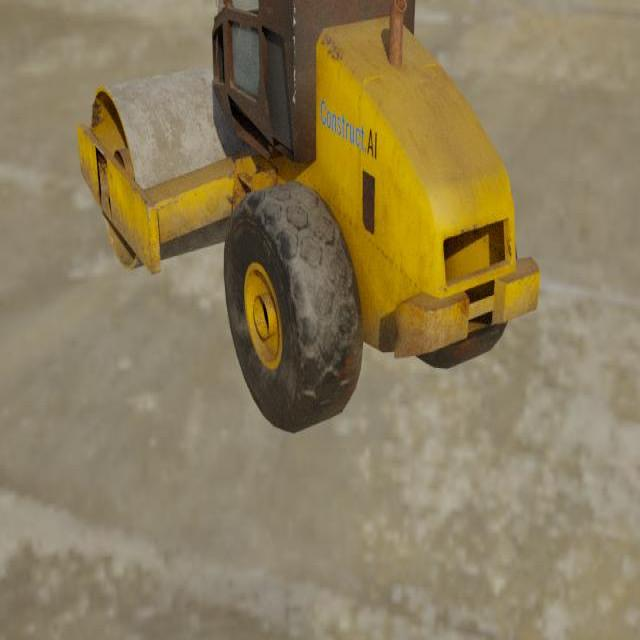Roller: (76, 0, 540, 435)
